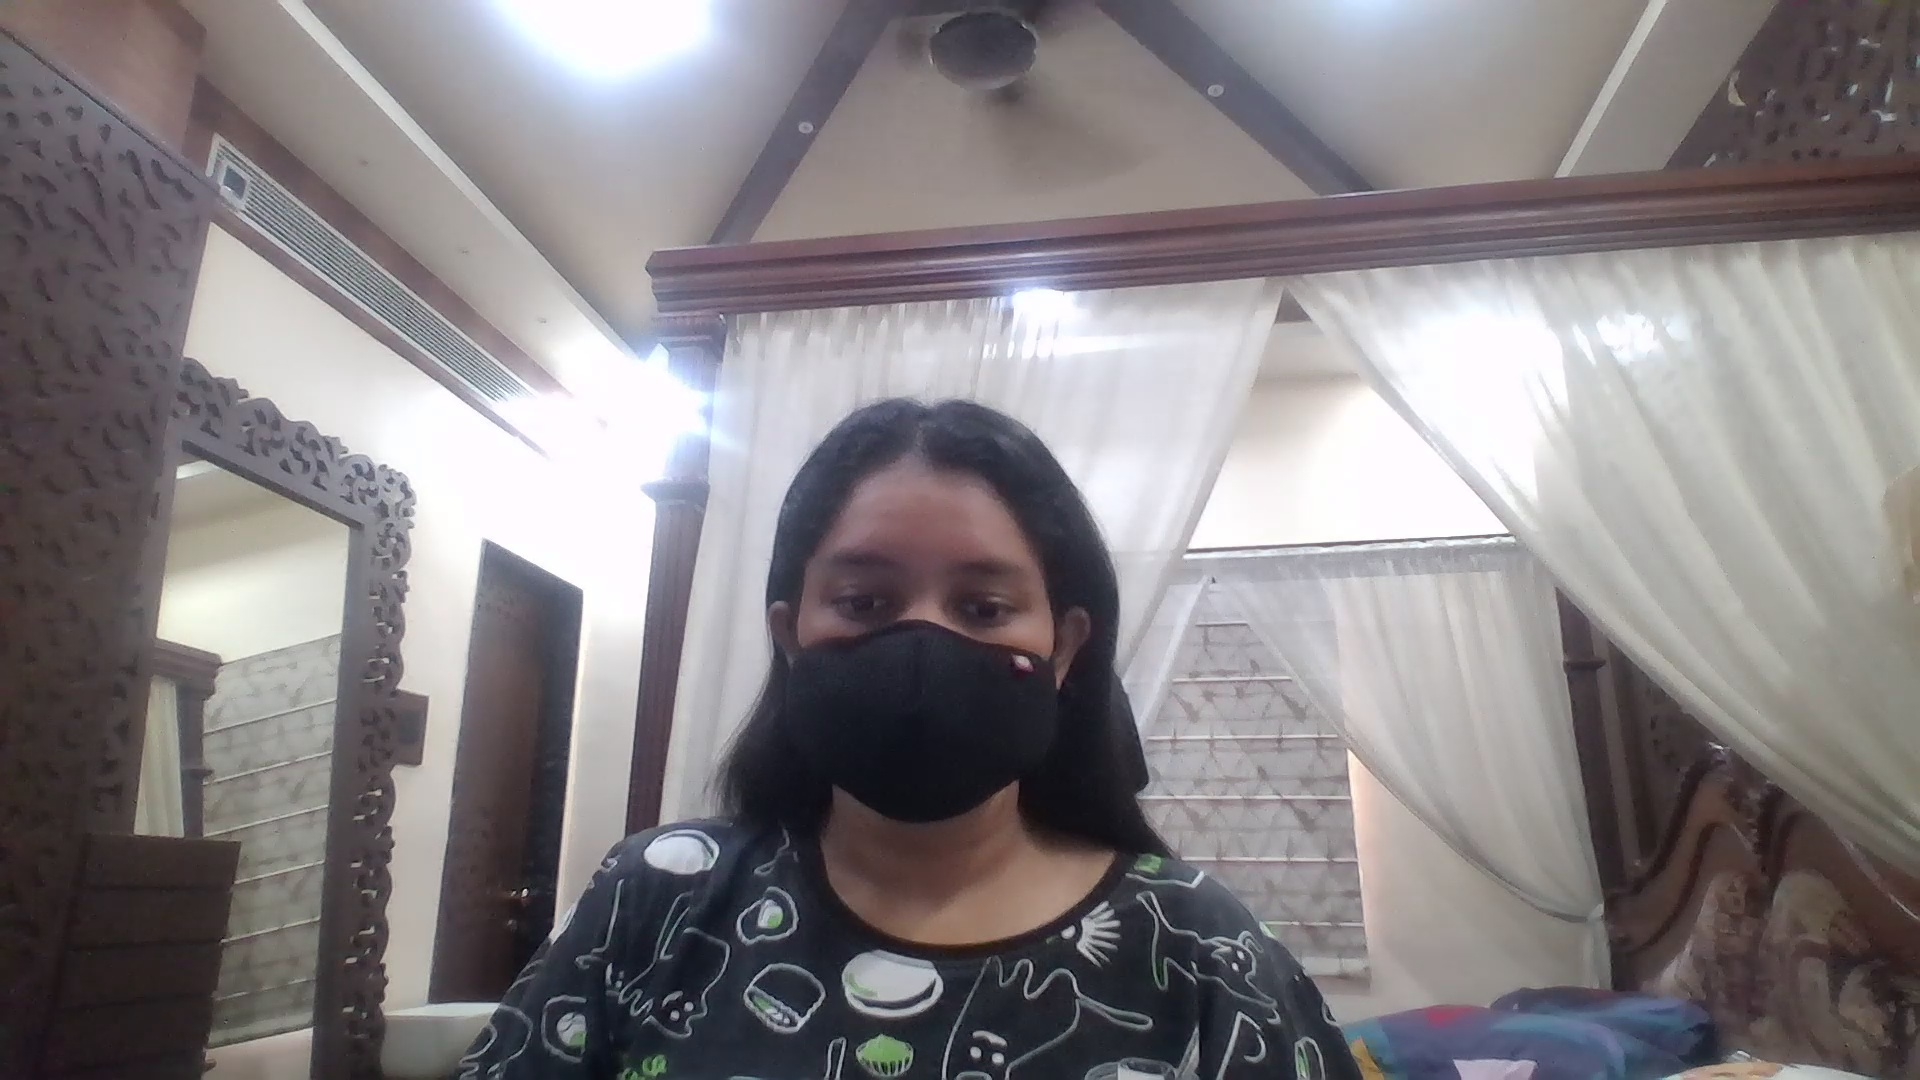Mask: (776, 622, 1101, 831)
